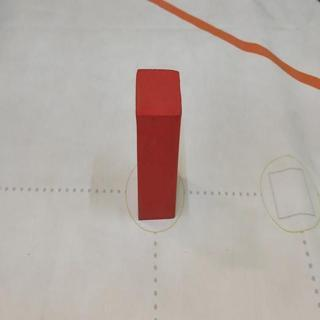redbox: (135, 68, 182, 220)
